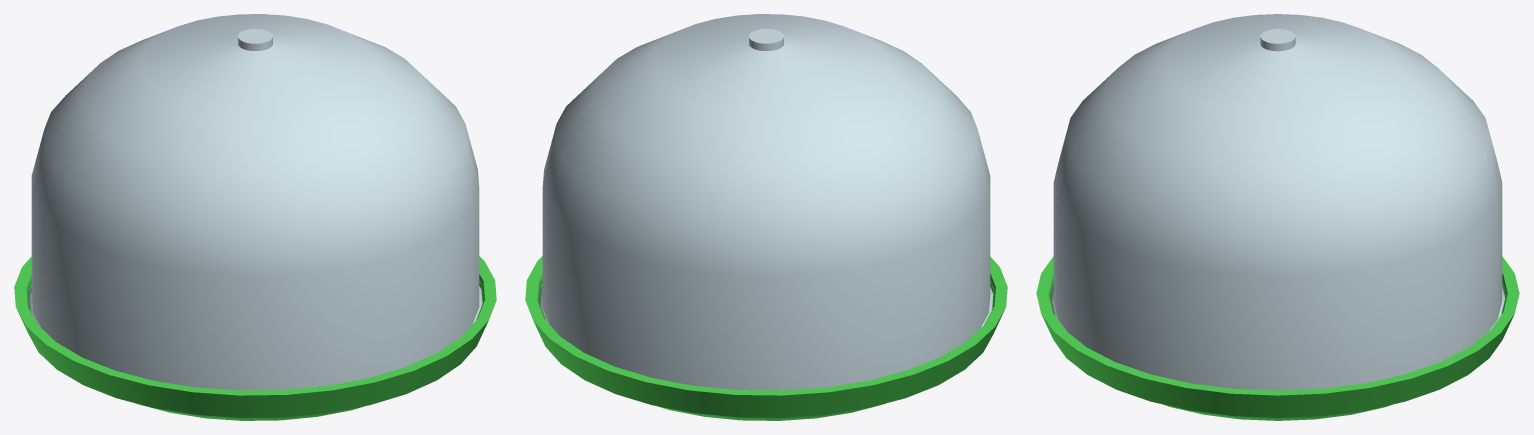
File: prizeCapsule.fbx
3 views of the same model, side by side, from view 1: azimuth 30°, elevation 25°; view 2: azimuth 150°, elevation 25°; view 3: azimuth 270°, elevation 25° (orthographic).
Parts seen in each view (by area): view 1: Prize Capsule Clear, Prize Capsule Lid; view 2: Prize Capsule Clear, Prize Capsule Lid; view 3: Prize Capsule Clear, Prize Capsule Lid.
Part boxes in pixels (bbox=[...]): Prize Capsule Clear: bbox=[28, 14, 482, 390]; Prize Capsule Lid: bbox=[14, 256, 496, 420]; Prize Capsule Clear: bbox=[539, 14, 993, 390]; Prize Capsule Lid: bbox=[525, 256, 1007, 420]; Prize Capsule Clear: bbox=[1051, 14, 1504, 390]; Prize Capsule Lid: bbox=[1036, 256, 1519, 420].
Size of the model in its own units: 75.3 by 53.88 by 75.3.
